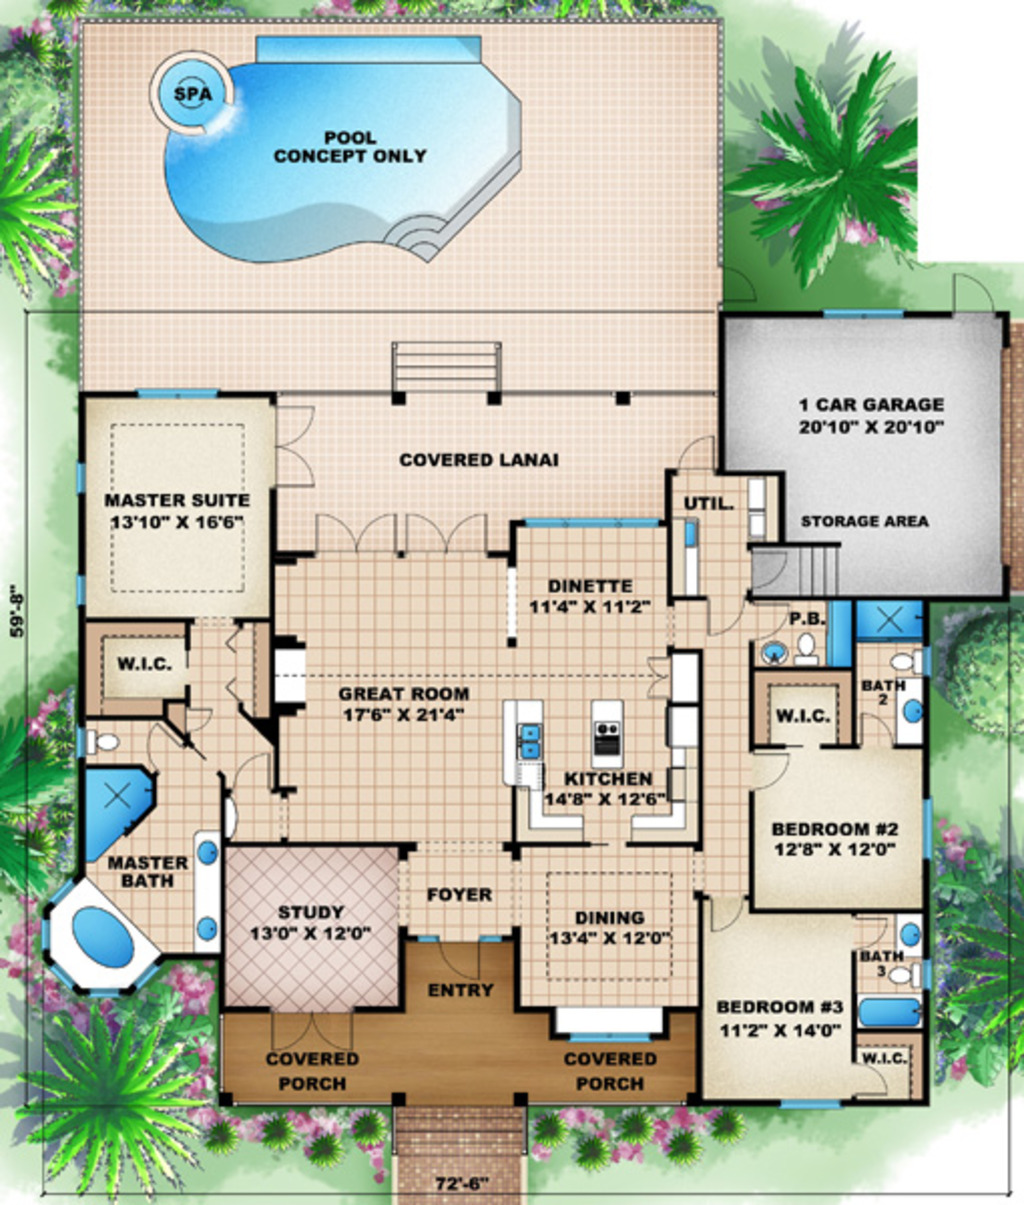door: (402, 508, 489, 557), (272, 404, 316, 490), (269, 1013, 357, 1056), (308, 515, 395, 552), (435, 938, 493, 979), (141, 716, 184, 768), (673, 431, 719, 475), (227, 750, 272, 794), (948, 271, 990, 318), (750, 545, 787, 597), (703, 597, 744, 639), (754, 747, 793, 788), (850, 1061, 898, 1095), (644, 652, 675, 703), (705, 895, 741, 936), (853, 712, 890, 747)
kitchen_bar: (499, 695, 545, 792), (587, 697, 625, 773)
large_sink: (875, 965, 922, 999), (781, 630, 825, 665), (878, 645, 925, 675), (80, 727, 119, 757)
small_sink: (189, 832, 228, 953), (900, 912, 922, 959)
stairs: (389, 338, 505, 398)
tub: (64, 902, 141, 970), (858, 993, 926, 1032)
windows: (519, 508, 662, 530), (132, 385, 219, 402)
